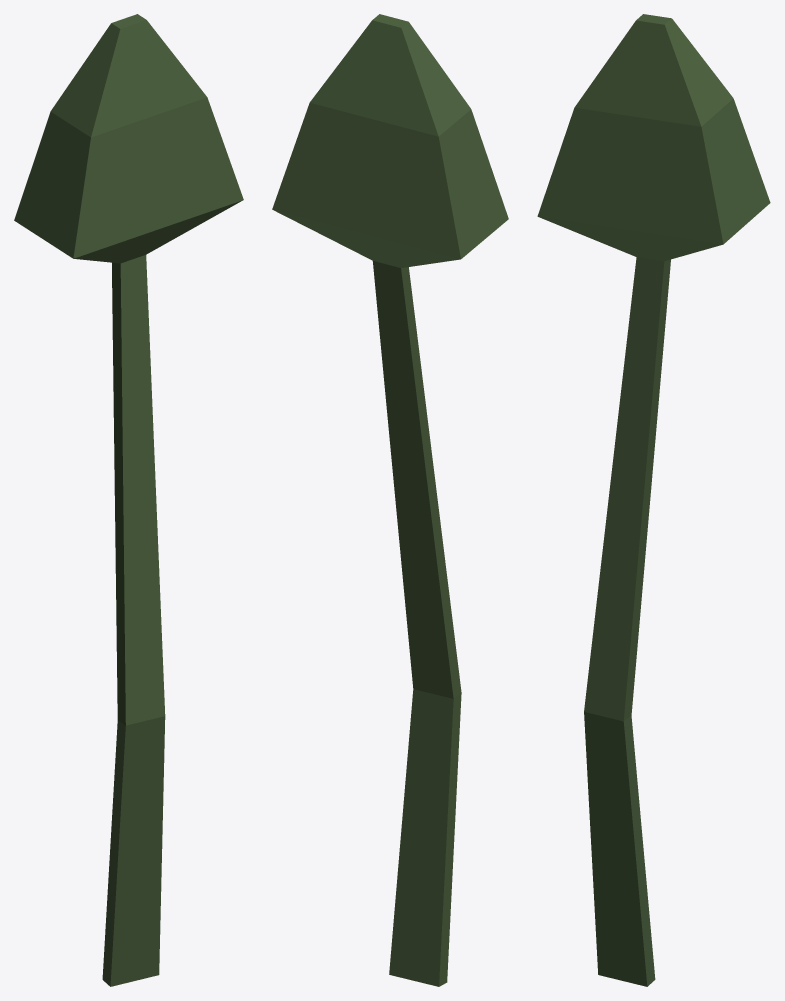
The model's file is flower_2.gltf.
The picture shows the model from 3 angles, left to right: view 1: azimuth 30°, elevation 25°; view 2: azimuth 150°, elevation 25°; view 3: azimuth 330°, elevation 25°; orthographic projection. The views are drawn at different scales.
Visible parts, largest first — view 1: flower_2; view 2: flower_2; view 3: flower_2.
Boxes of the visible parts, x1,y1,x2,y2 form: flower_2: [14, 14, 243, 986]; flower_2: [272, 14, 508, 986]; flower_2: [537, 14, 770, 986].
Bounding box in the file's own units: 0.0839 × 0.4117 × 0.0499.
1 material, 1 textured.
